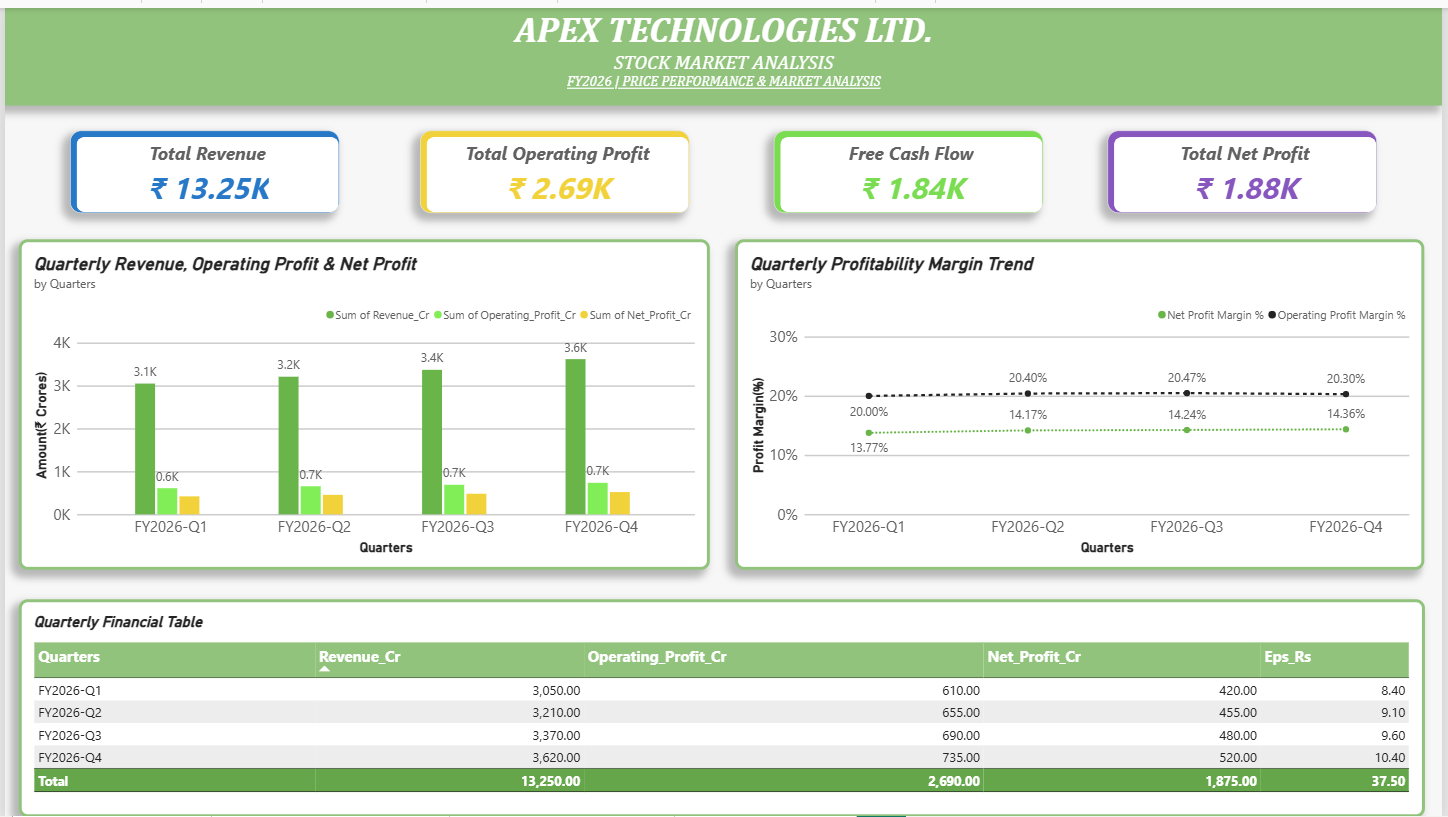

Layout of this report page (visuals, bound fields, positions):
{"tool":"powerbi","page":{"name":"FINANCIAL PERFORMANCE","canvas":[1920,1080],"ordinal":1},"visuals":[{"type":"clusteredColumnChart","title":"Quarterly Revenue, Operating Profit & Net Profit","fields":{"Category":["apex_equity_research quarterly_financials.Quarters"],"Y":["Sum(apex_equity_research quarterly_financials.Revenue_Cr)","Sum(apex_equity_research quarterly_financials.Operating_Profit_Cr)","Sum(apex_equity_research quarterly_financials.Net_Profit_Cr)"]},"box":[18.1,309.5,922.9,441.6],"z":0},{"type":"lineChart","title":"Quarterly Profitability Margin Trend","fields":{"Category":["apex_equity_research quarterly_financials.Quarters"],"Y":["apex_equity_research quarterly_financials.Net Profit Margin %","apex_equity_research quarterly_financials.Operating Profit Margin %"]},"box":[975.4,309.5,921.1,441.6],"z":1000},{"type":"cardVisual","fields":{"Data":["apex_equity_research quarterly_financials.Total Revenue"]},"box":[86.9,162.9,360,110],"z":2000},{"type":"cardVisual","fields":{"Data":["apex_equity_research quarterly_financials.Total Operating Profit"]},"box":[553.8,162.9,360,110],"z":3000},{"type":"cardVisual","fields":{"Data":["apex_equity_research quarterly_financials.Total Net Profit"]},"box":[1473.1,162.9,360,110],"z":4000},{"type":"cardVisual","fields":{"Data":["apex_equity_research cash_flow.Free Cash Flow"]},"box":[1026.1,162.9,360,110],"z":5000},{"type":"tableEx","title":"Quarterly Financial Table","fields":{"Values":["apex_equity_research quarterly_financials.Quarters","Sum(apex_equity_research quarterly_financials.Revenue_Cr)","Sum(apex_equity_research quarterly_financials.Operating_Profit_Cr)","Sum(apex_equity_research quarterly_financials.Net_Profit_Cr)","Sum(apex_equity_research quarterly_financials.Eps_Rs)"]},"box":[18.1,789,1878.4,291.4],"z":6000},{"type":"textbox","box":[0,0,1920.4,130],"z":7000}]}

Visuals, with their boxes in screenshot pixels (x1, y1, x2, y2), scaled from the page's 1920x1080 canvas onto the 1448x817 screenshot:
"Quarterly Revenue, Operating Profit & Net Profit" clusteredColumnChart: 14 234 710 568
"Quarterly Profitability Margin Trend" lineChart: 736 234 1430 568
cardVisual - apex_equity_research quarterly_financials.Total Revenue: 66 123 337 206
cardVisual - apex_equity_research quarterly_financials.Total Operating Profit: 418 123 689 206
cardVisual - apex_equity_research quarterly_financials.Total Net Profit: 1111 123 1382 206
cardVisual - apex_equity_research cash_flow.Free Cash Flow: 774 123 1045 206
"Quarterly Financial Table" tableEx: 14 597 1430 816
textbox: 0 0 1447 98
